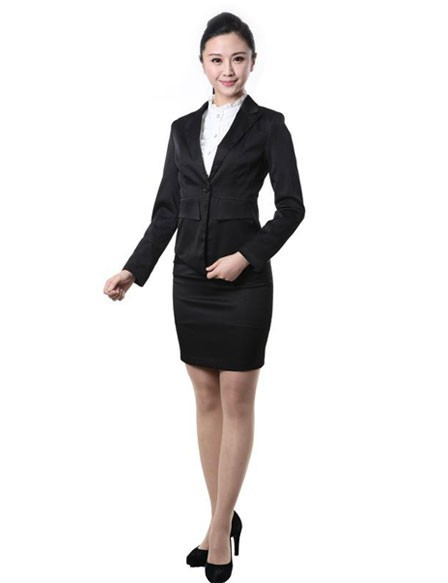F_W_suit jacket: (122, 91, 313, 262)
F_shirt: (200, 101, 245, 166)
F_tailored skirt: (162, 250, 296, 386)
